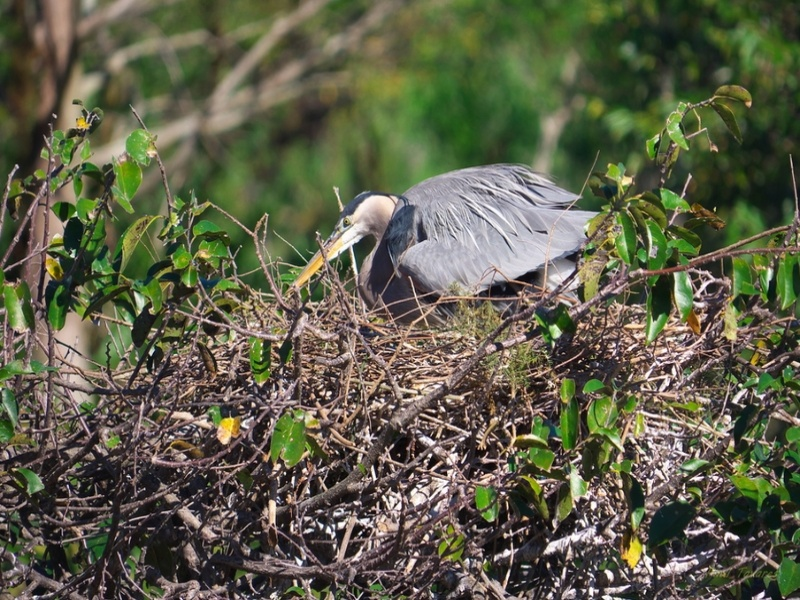heron: (283, 155, 614, 323)
